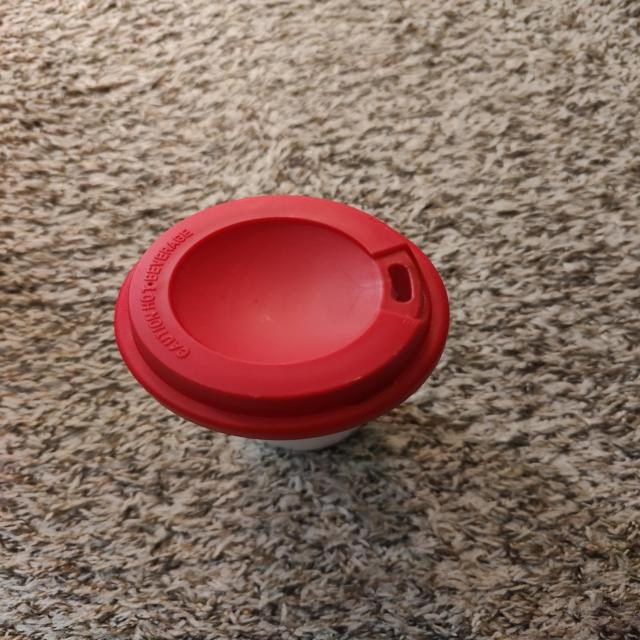mug: (136, 216, 434, 455)
